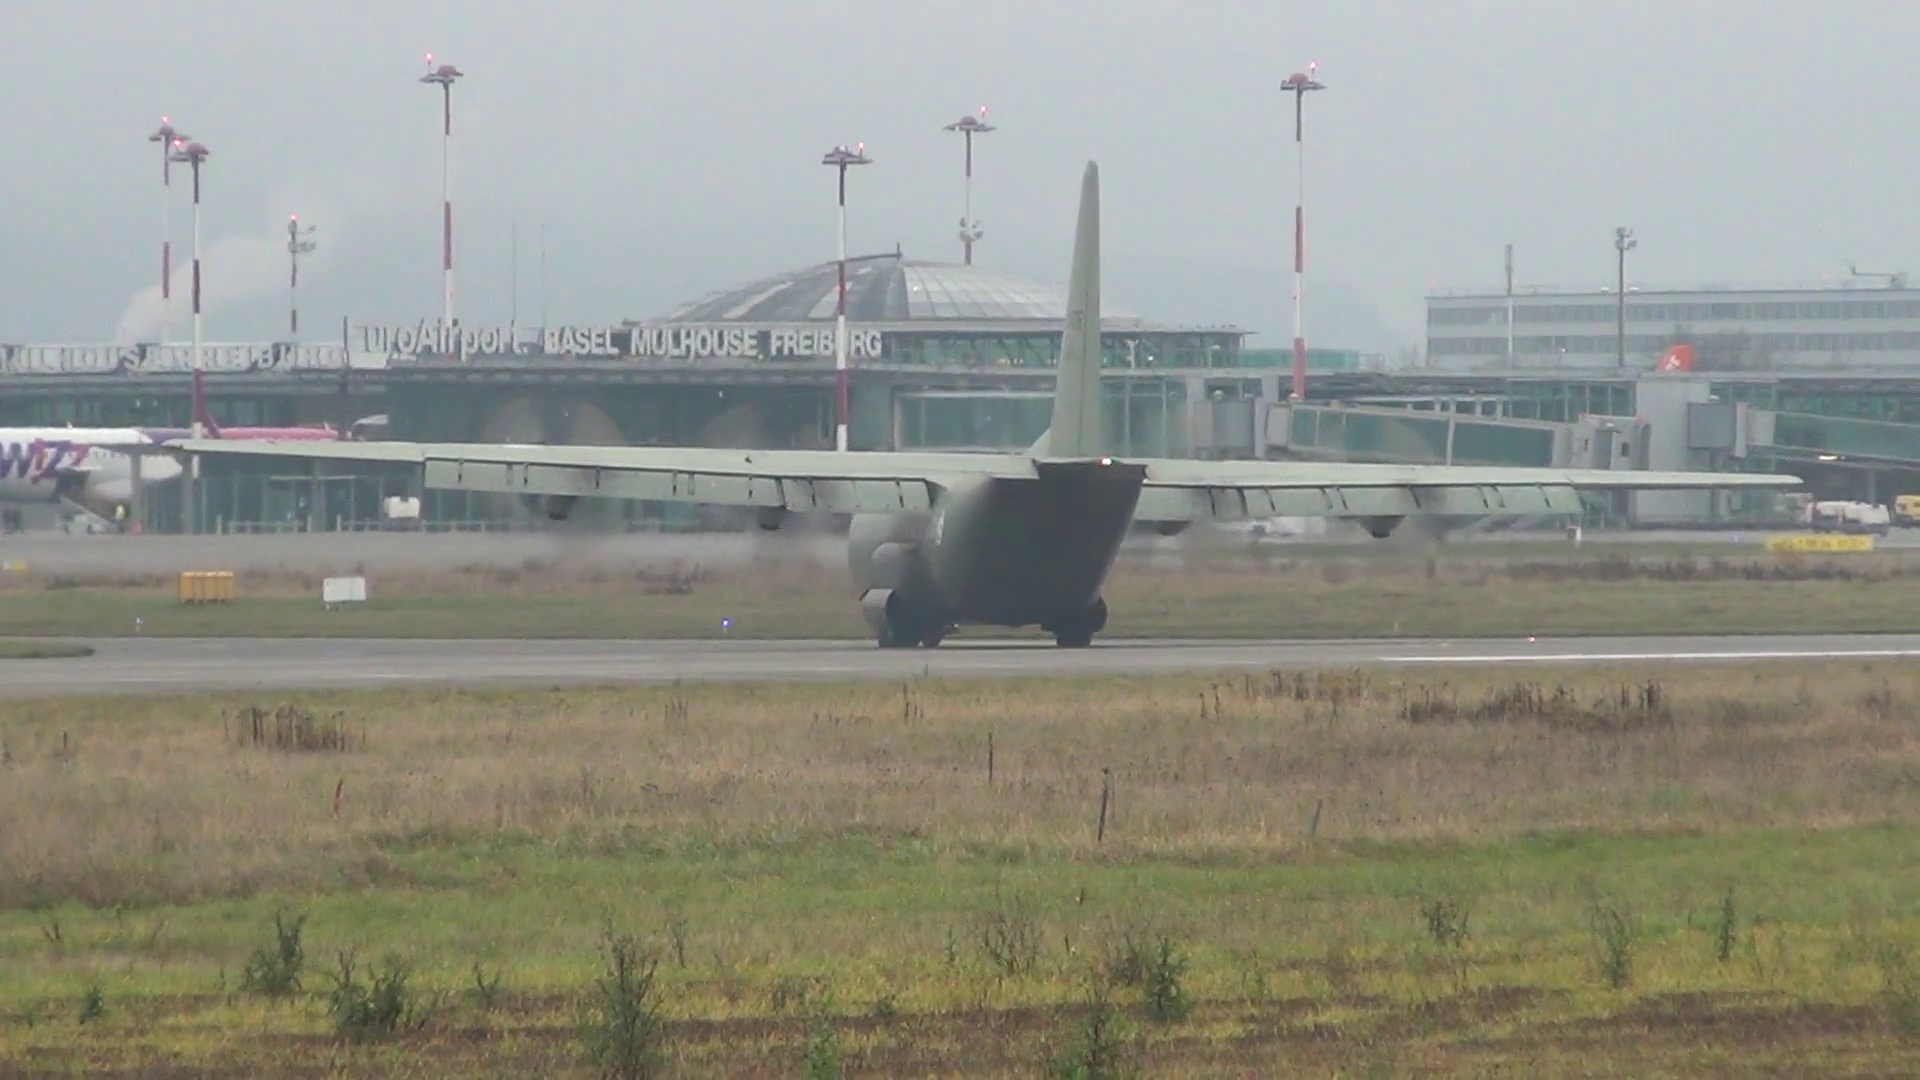Airplane: (251, 170, 1811, 650)
